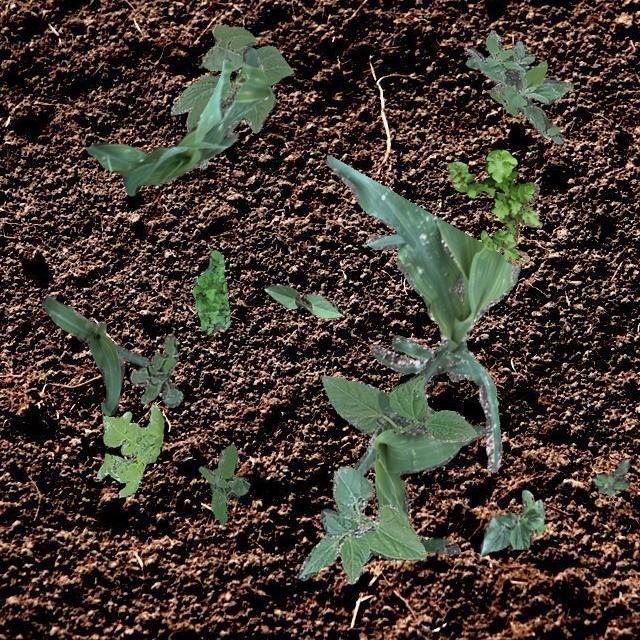crop: (324, 154, 520, 472), (352, 346, 483, 552), (86, 46, 268, 194), (170, 24, 294, 168), (298, 464, 426, 582), (42, 294, 148, 414), (320, 374, 476, 442), (478, 488, 544, 556), (264, 284, 342, 316)
weed: (464, 29, 572, 142), (446, 148, 542, 264), (95, 404, 163, 496), (198, 444, 248, 524), (128, 332, 182, 406), (192, 248, 230, 334), (592, 458, 628, 494)
